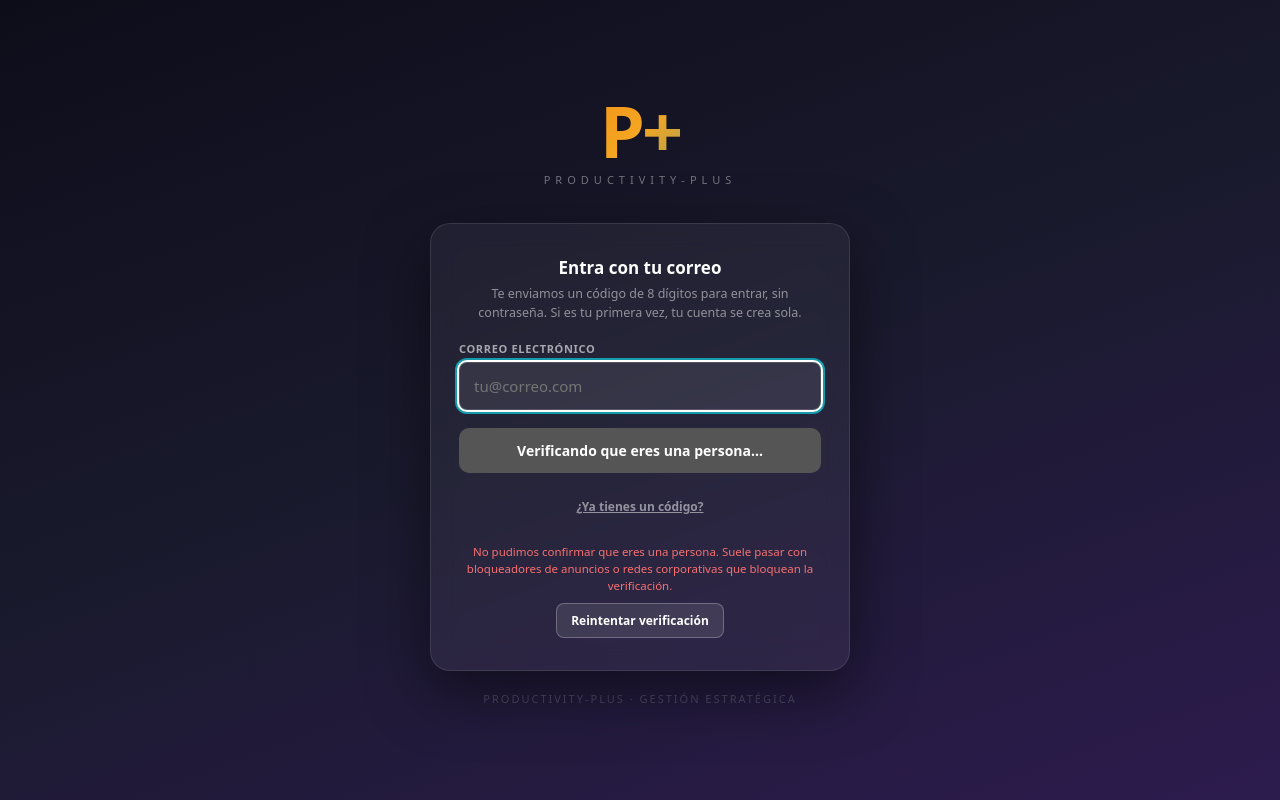
AuthScreen — CAPTCHA de Turnstile (H-054) › CAPTCHA falla: muestra el aviso con "Reintentar verificación"; al segundo fallo agrega el contacto; "¿Ya tienes un código?" sigue funcionando
Expected: the text "info@softatumedida.com" is not shown
Click the button "Reintentar verificación" at (640,620), box [556,603,724,638]
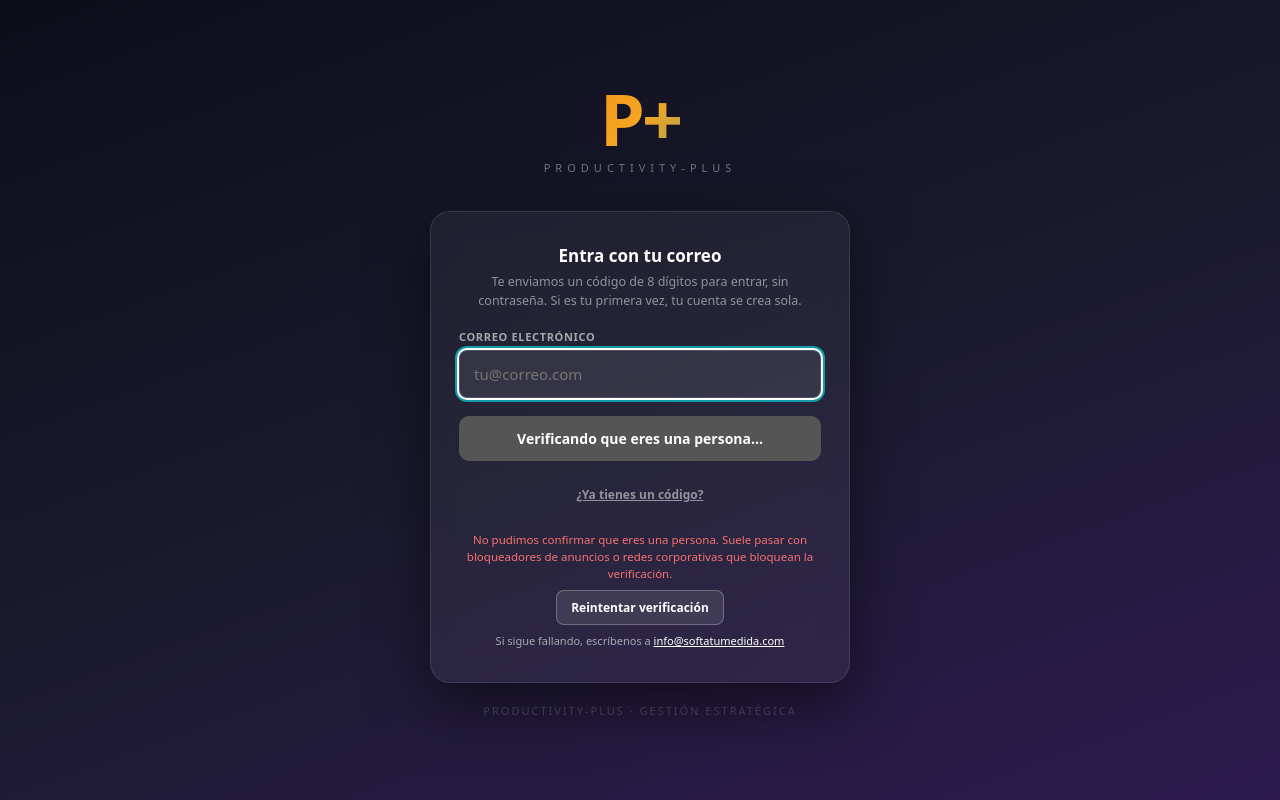
Expected: the link "info@softatumedida.com" is shown, [654,633,784,648]
# "¿Ya tienes un código?" no depende del estado del CAPTCHA.
Type "persona@empresa.com" into the field labelled "Correo electrónico" at (640,374), box [459,350,821,398]
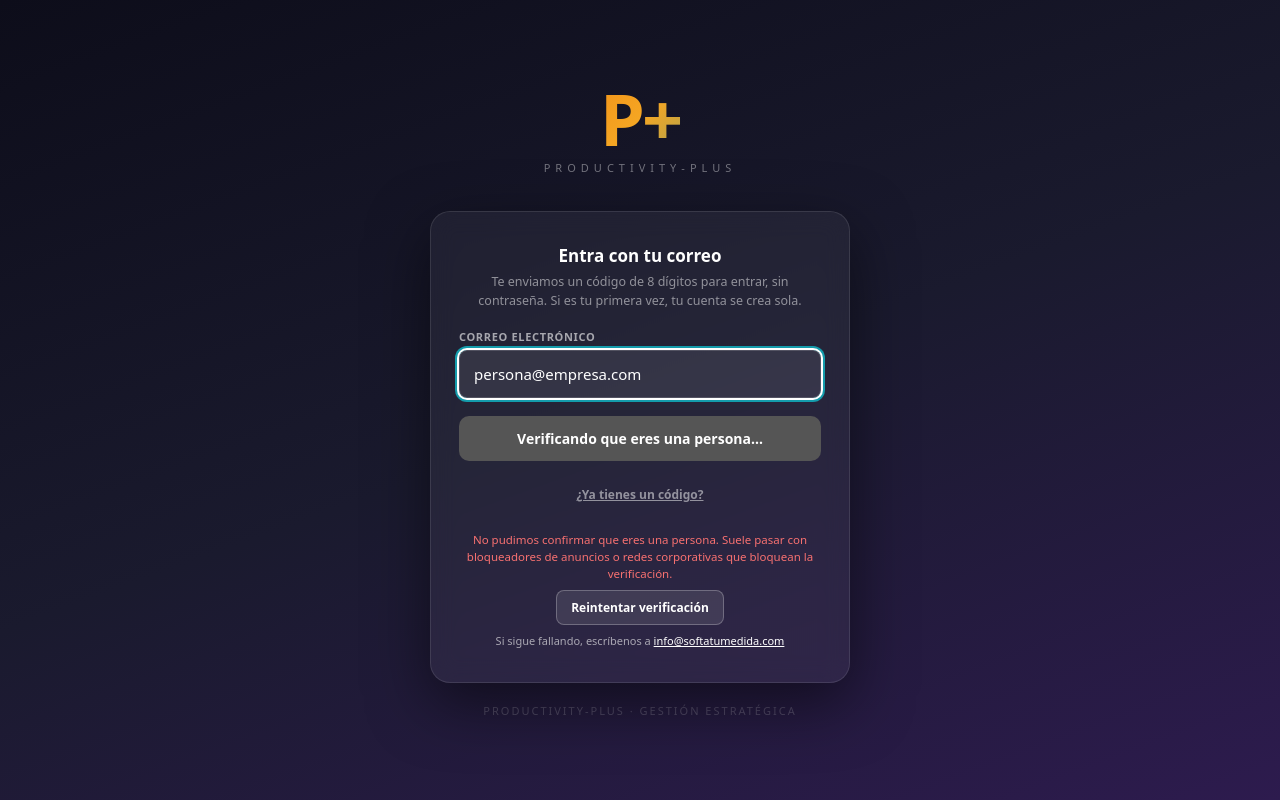
Click the button "¿Ya tienes un código?" at (640,495), box [459,475,821,515]
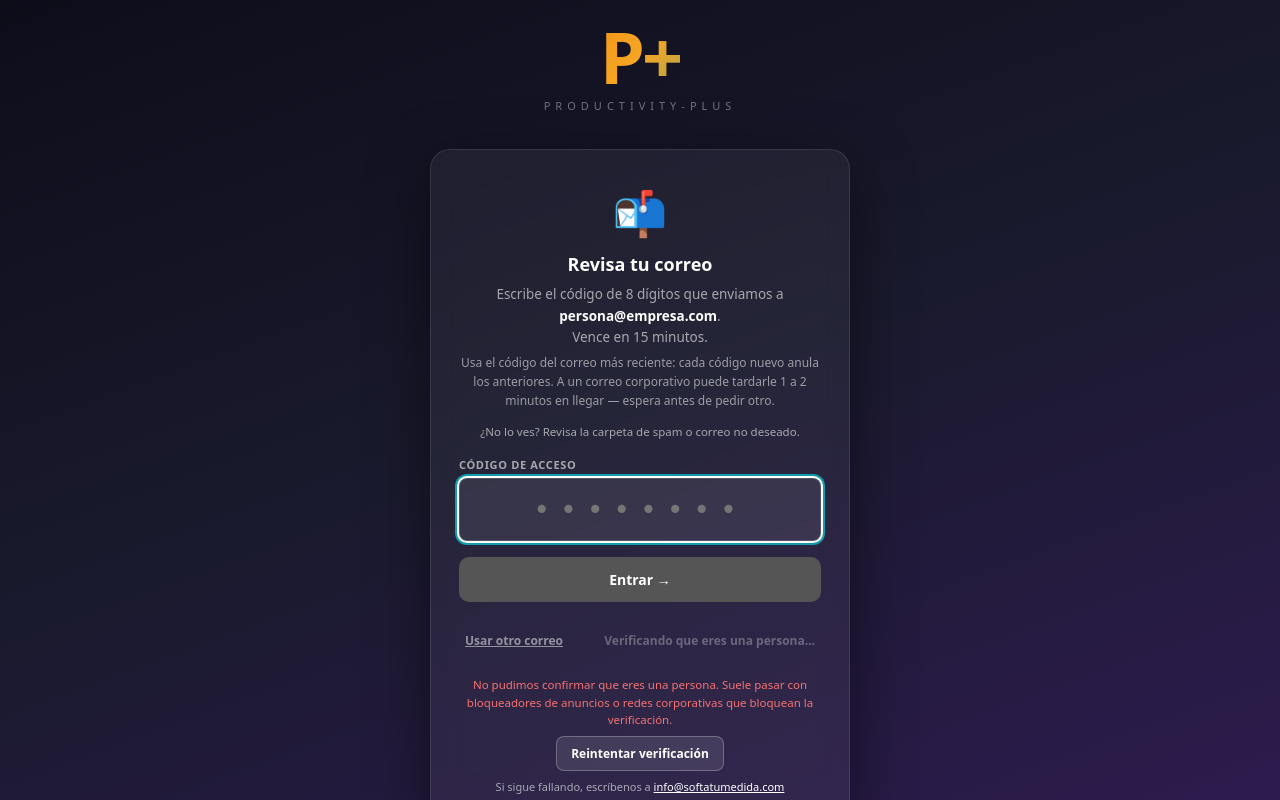
Expected: the field labelled "Código de acceso" is shown, [459,478,821,541]
